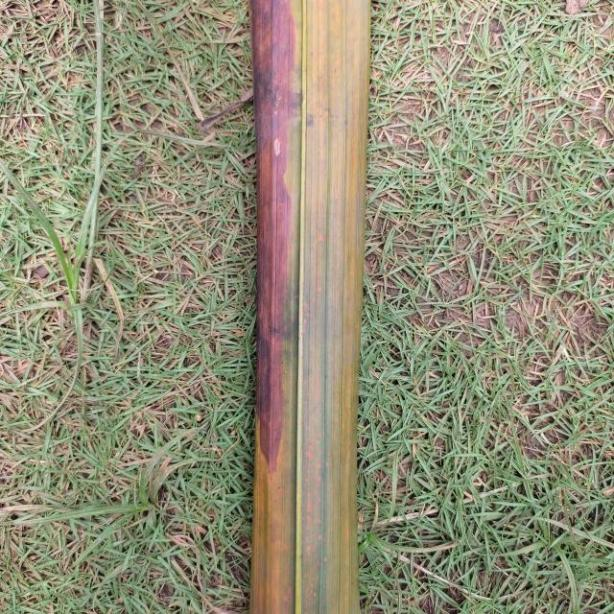Megnesium: (250, 0, 373, 614)
